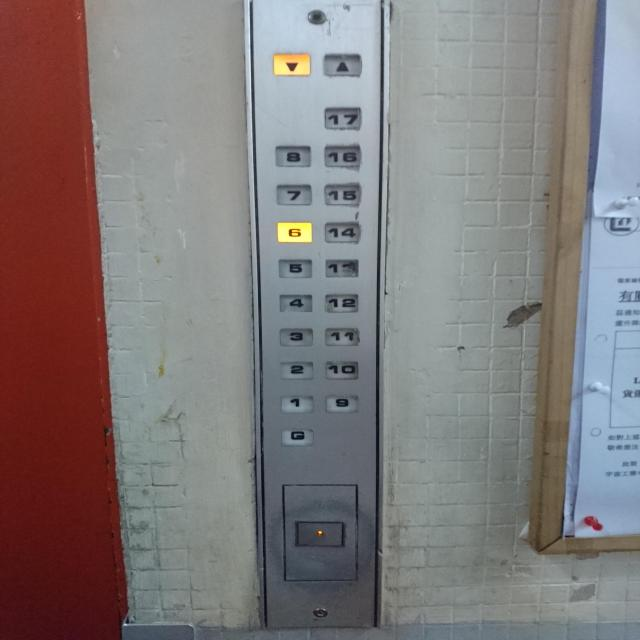1: (279, 393, 314, 414)
10: (324, 360, 359, 381)
11: (324, 327, 361, 348)
12: (324, 292, 359, 314)
13: (324, 257, 359, 279)
14: (324, 221, 361, 244)
15: (322, 182, 363, 208)
16: (323, 142, 362, 168)
17: (322, 106, 362, 131)
2: (279, 360, 314, 381)
3: (278, 327, 314, 347)
4: (278, 293, 314, 314)
5: (276, 257, 314, 279)
6: (276, 221, 313, 244)
7: (274, 182, 313, 208)
8: (273, 143, 312, 169)
9: (324, 393, 360, 415)
G: (279, 427, 315, 447)
down: (272, 52, 312, 78)
empty: (294, 519, 346, 548)
up: (322, 52, 364, 78)
